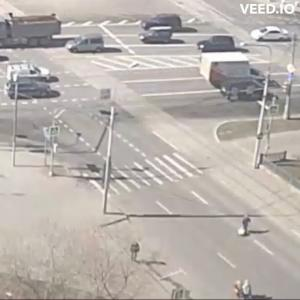car: (202, 51, 266, 84), (1, 13, 60, 48), (221, 82, 275, 105), (66, 35, 111, 60), (14, 81, 50, 105), (197, 35, 241, 54), (136, 26, 174, 46), (142, 12, 182, 30), (9, 64, 54, 79), (252, 27, 291, 42)
